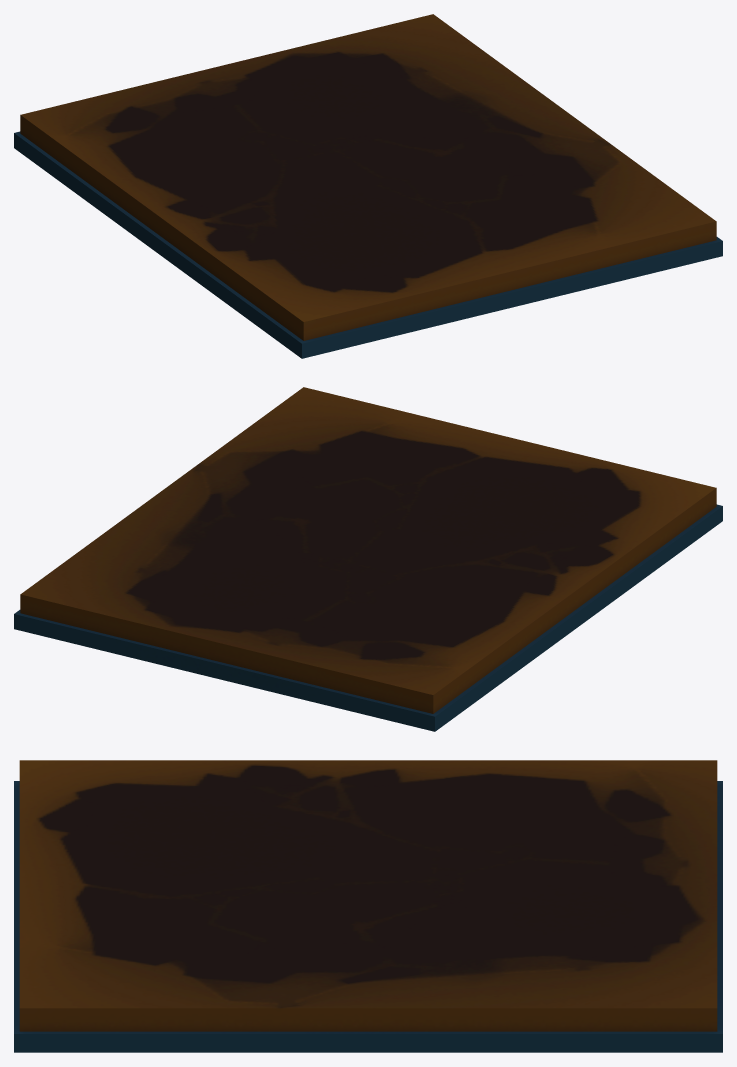
File: Ground_02.FBX
3 views of the same model, one above another, from view 1: azimuth 30°, elevation 25°; view 2: azimuth 150°, elevation 25°; view 3: azimuth 270°, elevation 25° (orthographic). The views are drawn at different scales.
Parts seen in each view (by area): view 1: Ground_02; view 2: Ground_02; view 3: Ground_02.
Part boxes in pixels (<box>): Ground_02: <box>14,14,722,358</box>; Ground_02: <box>14,387,722,731</box>; Ground_02: <box>14,760,722,1052</box>.
Size of the model in its own units: 21.94 by 1.69 by 25.99.
